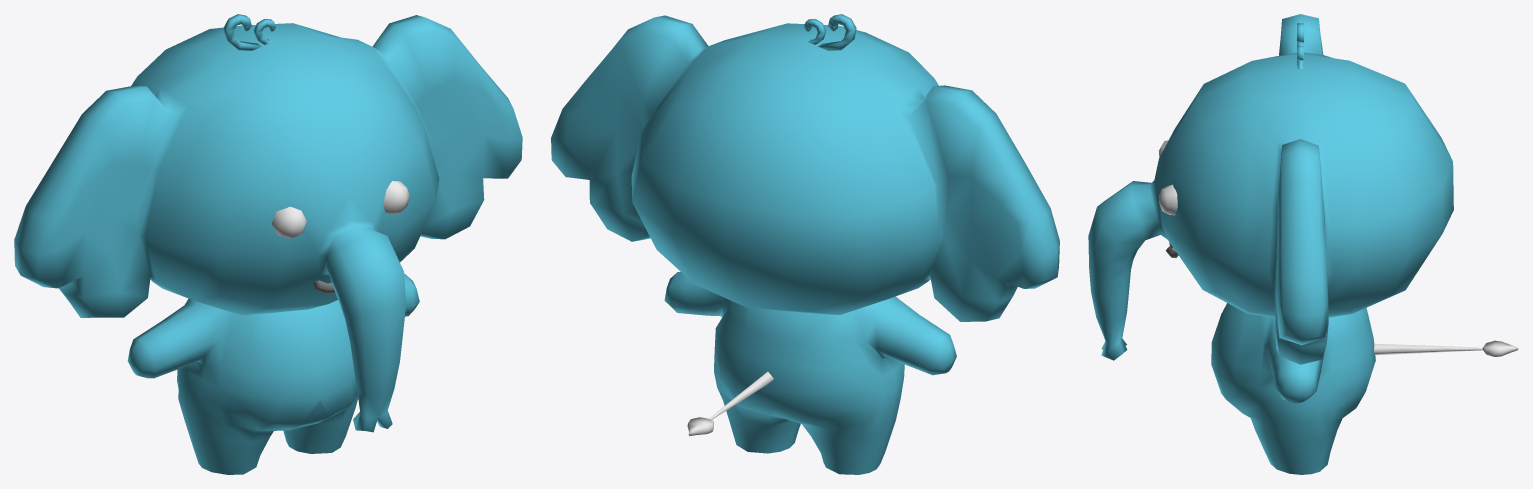
File: phanphan_model.FBX
The picture shows the model from 3 angles, left to right: view 1: azimuth 30°, elevation 25°; view 2: azimuth 150°, elevation 25°; view 3: azimuth 270°, elevation 25°; orthographic projection. The views are drawn at different scales.
Visible parts, largest first — view 1: face, body, eye, hair1; view 2: face, body, hair1, tail strap; view 3: face, body, tail strap, eye.
Boxes of the visible parts, <box> form: face: <box>14,15,522,432</box>; body: <box>127,274,419,474</box>; eye: <box>271,181,409,238</box>; hair1: <box>223,14,261,50</box>; face: <box>551,15,1059,321</box>; body: <box>664,271,956,474</box>; hair1: <box>818,14,856,50</box>; tail strap: <box>709,371,773,419</box>; face: <box>1088,14,1453,364</box>; body: <box>1211,303,1375,474</box>; tail strap: <box>1374,343,1482,355</box>; eye: <box>1159,140,1177,215</box>.
Size of the model in its own units: 309 by 263 by 253.
